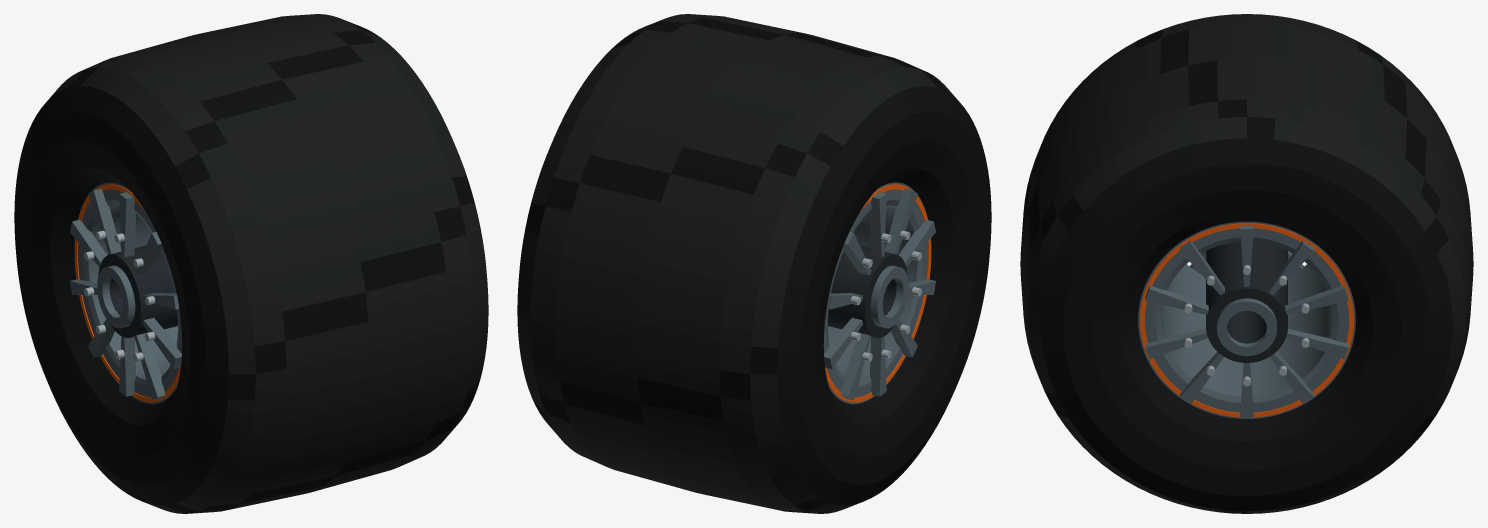
File: M02-003_balloon_sand_wheel.obj
3 renders of one model, left to right at view 1: azimuth 30°, elevation 25°; view 2: azimuth 150°, elevation 25°; view 3: azimuth 270°, elevation 25°, orthographic. The views are drawn at different scales.
Visible parts, largest first — view 1: Balloon_Tire, Alloy_Bead_Rim, Axle_Hub, Hub_Collar_L, Bead_Trim_L, Spoke_L_05, Spoke_L_10, Spoke_L_01, Spoke_L_06, Spoke_L_04, Spoke_L_09, Spoke_L_02; view 2: Balloon_Tire, Alloy_Bead_Rim, Axle_Hub, Hub_Collar_L, Bead_Trim_L, Spoke_L_07, Spoke_L_02, Spoke_L_01, Spoke_L_06, Spoke_L_08, Spoke_L_03, Spoke_L_10; view 3: Balloon_Tire, Alloy_Bead_Rim, Axle_Hub, Bead_Trim_R, Hub_Collar_R, Spoke_R_03, Spoke_R_09, Spoke_R_04, Spoke_R_08, Spoke_R_02, Spoke_R_10, Spoke_R_05 (+3 smaller).
Part boxes in pixels (bbox=[...]): Balloon_Tire: bbox=[14, 14, 488, 513]; Alloy_Bead_Rim: bbox=[74, 182, 182, 404]; Axle_Hub: bbox=[98, 245, 177, 337]; Hub_Collar_L: bbox=[97, 265, 135, 328]; Bead_Trim_L: bbox=[74, 184, 180, 402]; Spoke_L_05: bbox=[134, 333, 164, 400]; Spoke_L_10: bbox=[88, 188, 121, 254]; Spoke_L_01: bbox=[119, 192, 135, 257]; Spoke_L_06: bbox=[119, 336, 135, 396]; Spoke_L_04: bbox=[143, 317, 181, 368]; Spoke_L_09: bbox=[70, 219, 106, 267]; Spoke_L_02: bbox=[134, 232, 162, 275]; Balloon_Tire: bbox=[517, 14, 991, 513]; Alloy_Bead_Rim: bbox=[823, 182, 931, 404]; Axle_Hub: bbox=[828, 245, 907, 337]; Hub_Collar_L: bbox=[870, 265, 908, 328]; Bead_Trim_L: bbox=[825, 184, 931, 402]; Spoke_L_07: bbox=[841, 333, 871, 400]; Spoke_L_02: bbox=[884, 188, 917, 254]; Spoke_L_01: bbox=[870, 192, 886, 257]; Spoke_L_06: bbox=[870, 336, 886, 396]; Spoke_L_08: bbox=[824, 317, 862, 368]; Spoke_L_03: bbox=[899, 219, 935, 267]; Spoke_L_10: bbox=[843, 232, 871, 275]; Balloon_Tire: bbox=[1020, 14, 1473, 513]; Alloy_Bead_Rim: bbox=[1138, 221, 1355, 418]; Axle_Hub: bbox=[1206, 241, 1287, 362]; Bead_Trim_R: bbox=[1140, 223, 1353, 417]; Hub_Collar_R: bbox=[1217, 298, 1276, 356]; Spoke_R_03: bbox=[1145, 285, 1208, 314]; Spoke_R_09: bbox=[1285, 285, 1348, 314]; Spoke_R_04: bbox=[1145, 329, 1207, 359]; Spoke_R_08: bbox=[1286, 329, 1348, 359]; Spoke_R_02: bbox=[1180, 240, 1224, 295]; Spoke_R_10: bbox=[1269, 240, 1313, 295]; Spoke_R_05: bbox=[1180, 352, 1223, 404].
Bounding box in the file's own units: 0.71 × 1.02 × 1.02.
